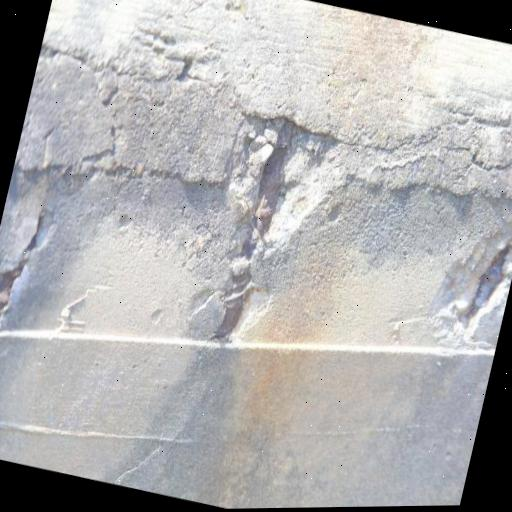exposed_rebar: (256, 147, 286, 237), (463, 259, 503, 325), (0, 249, 29, 320), (213, 286, 248, 338)
